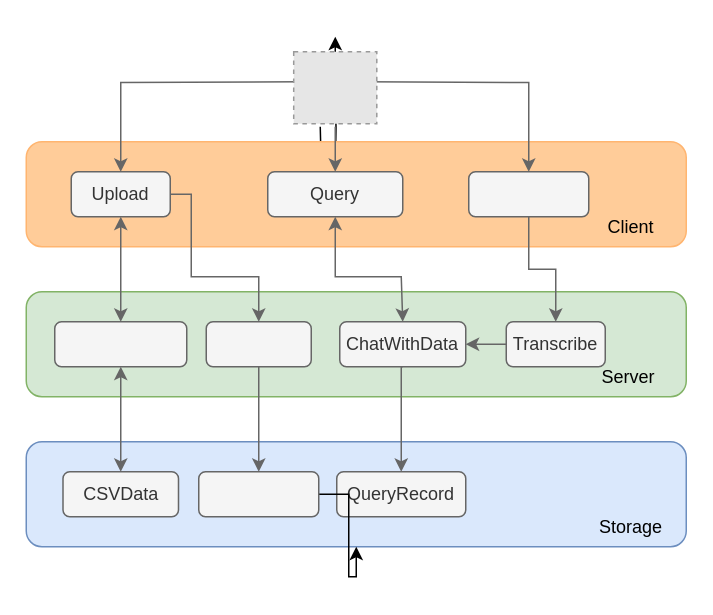
The diagram is 713 pixels wide and 615 high, and some of its shapes have lost their labels. Grey dashed boxes stand in for pictures. The shapes that lost their labels are listed below. From the top down, each one's centre as x and y in pixels, then its label:
At (x=528, y=193): "Audio Record".
At (x=120, y=343): "KnowYourData".
At (x=258, y=343): "Embedding".
At (x=258, y=493): "VectorDB".
